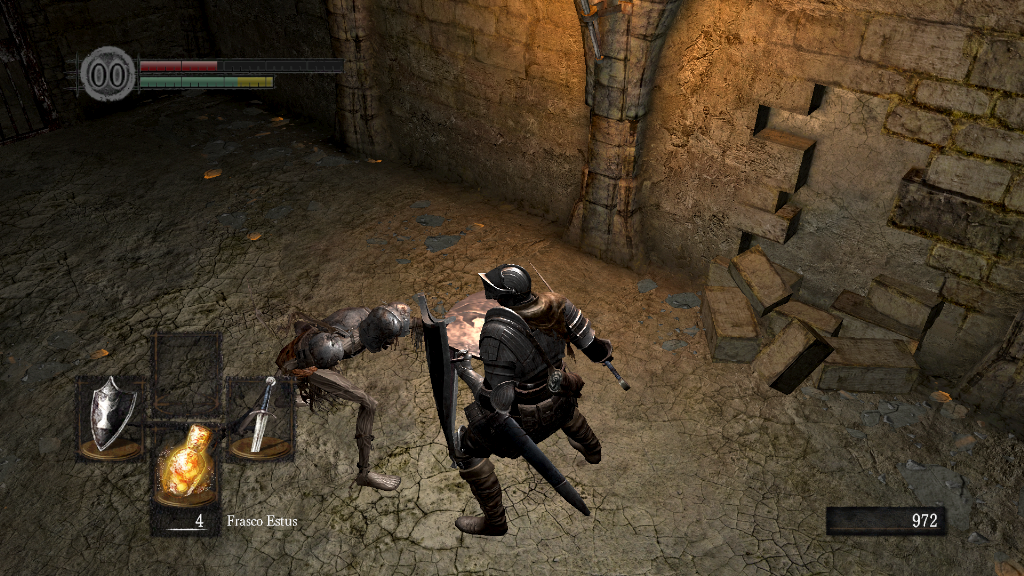health: (138, 58, 343, 71)
humanity: (80, 45, 136, 102)
player: (416, 263, 637, 538)
souls: (825, 506, 945, 536)
stamina: (138, 74, 274, 88)
undeadSoldier: (268, 302, 412, 496)
